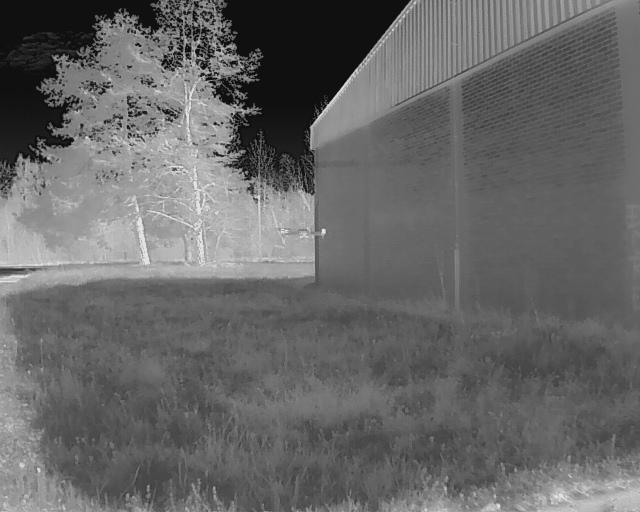drone: (269, 217, 338, 248)
